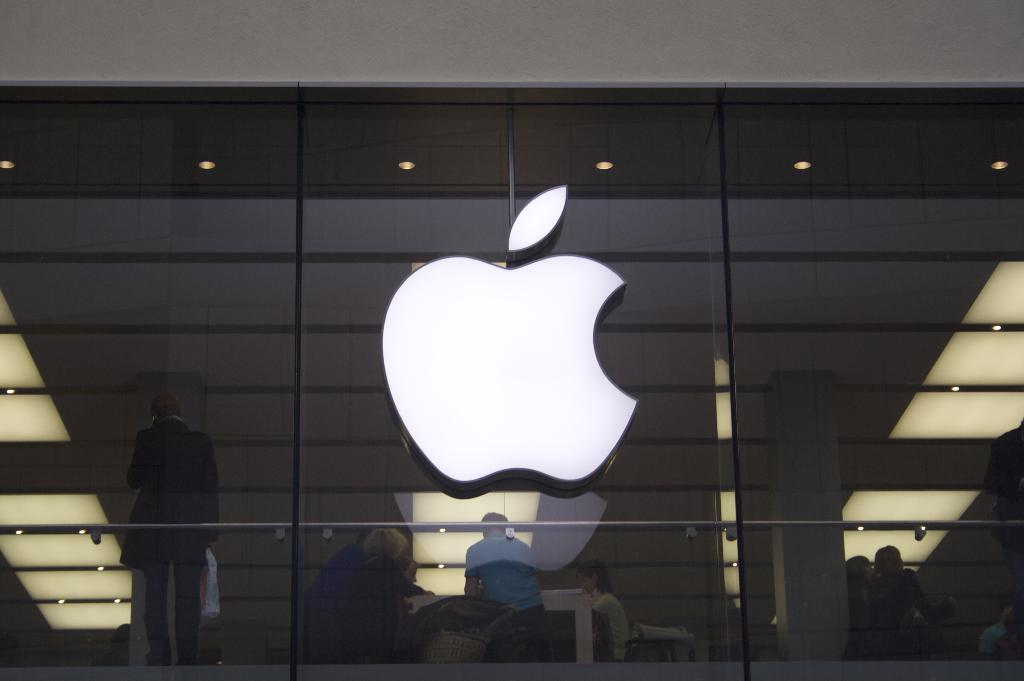Apple: (361, 236, 640, 506)
